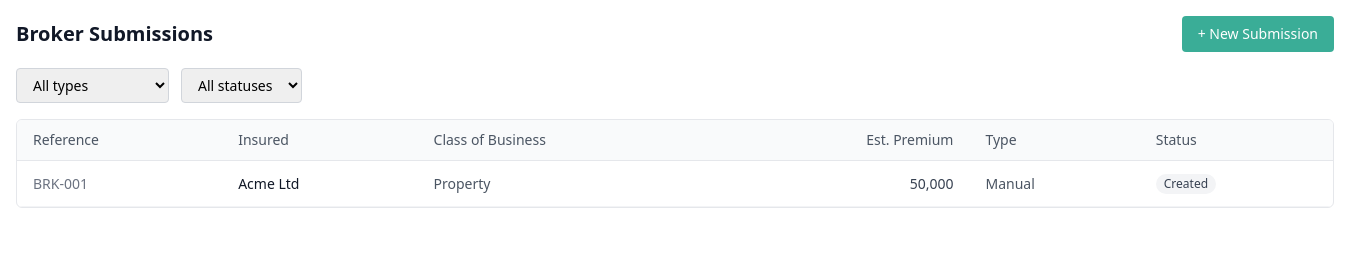
Test: REQ-PSS-BRK-LIST-F-004 — Filter-empty state › T-PSS-BRK-LIST-F004: shows a "no results" message with a clear-filters prompt when filters are active and nothing matches
Expected: the table is shown, [17,120,1333,207]
Select "Platform Shared" in the dropdown named "Filter by type": (92, 86) [16,68,169,103]
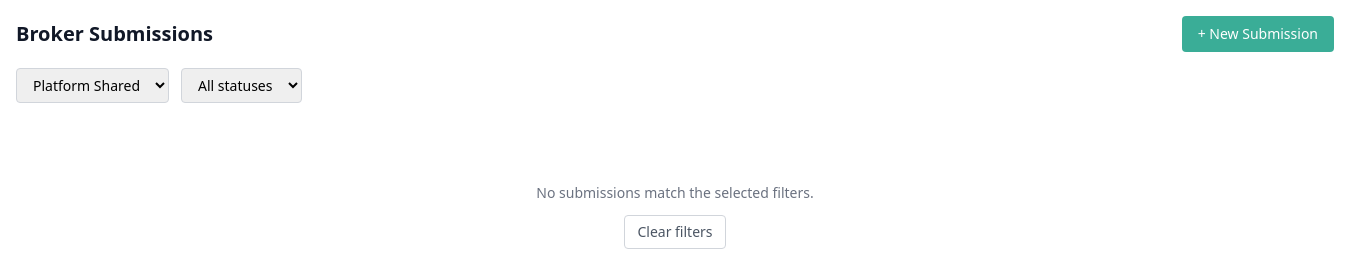
Now the text "No submissions match the selected filters." is shown, box [536,183,814,203]
Now the button "Clear filters" is shown, box [624,215,726,249]
